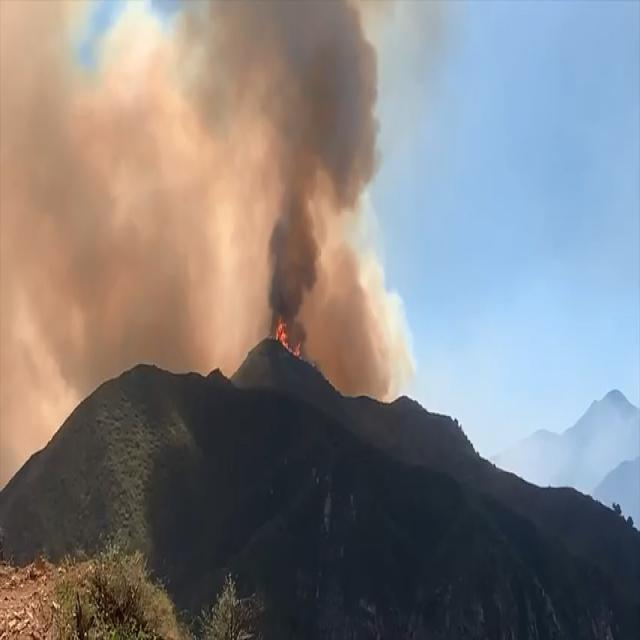Fire: (268, 300, 302, 360)
